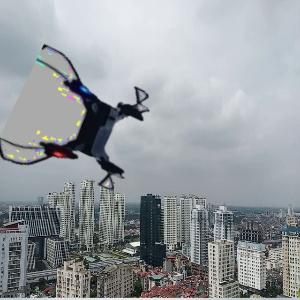drone: (14, 58, 148, 192)
